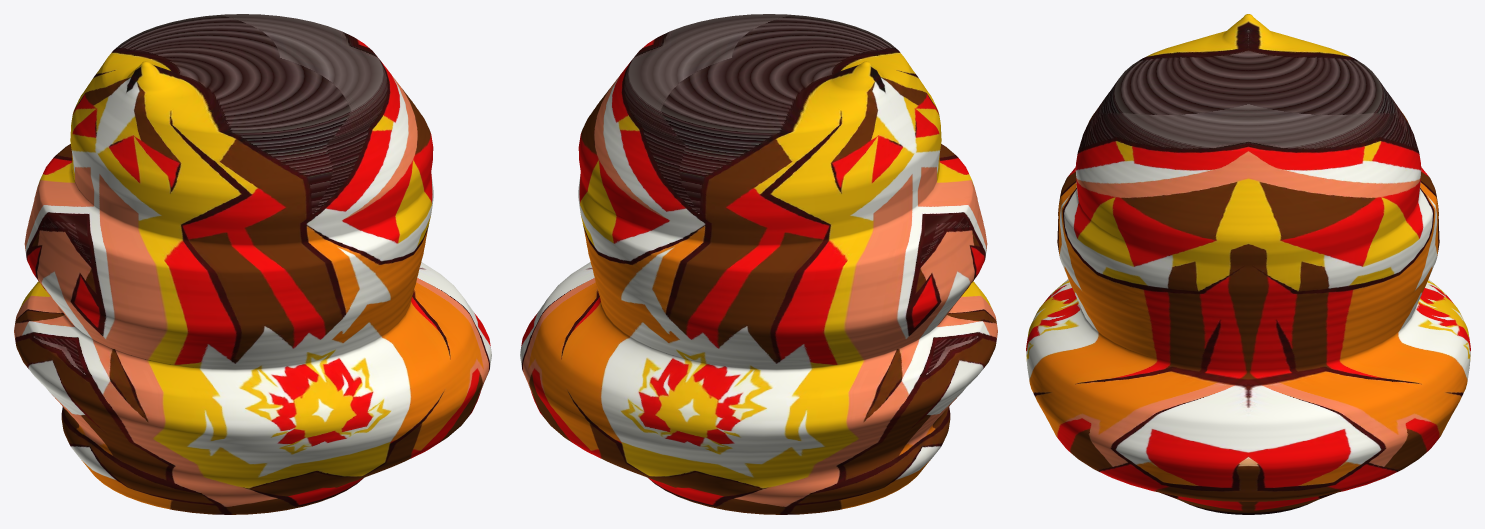
File: crystal_cluster.glb
3 renders of one model, left to right at view 1: azimuth 30°, elevation 25°; view 2: azimuth 150°, elevation 25°; view 3: azimuth 270°, elevation 25°, orthographic. The views are drawn at different scales.
Parts seen in each view (by area): view 1: crystal_cluster; view 2: crystal_cluster; view 3: crystal_cluster.
Boxes of the visible parts, x1,y1,x2,y2 form: crystal_cluster: (14, 14, 491, 514); crystal_cluster: (520, 14, 997, 514); crystal_cluster: (1026, 14, 1470, 514).
Bounding box in the file's own units: 0.9929 × 0.9705 × 0.963.
1 material, 1 textured.
